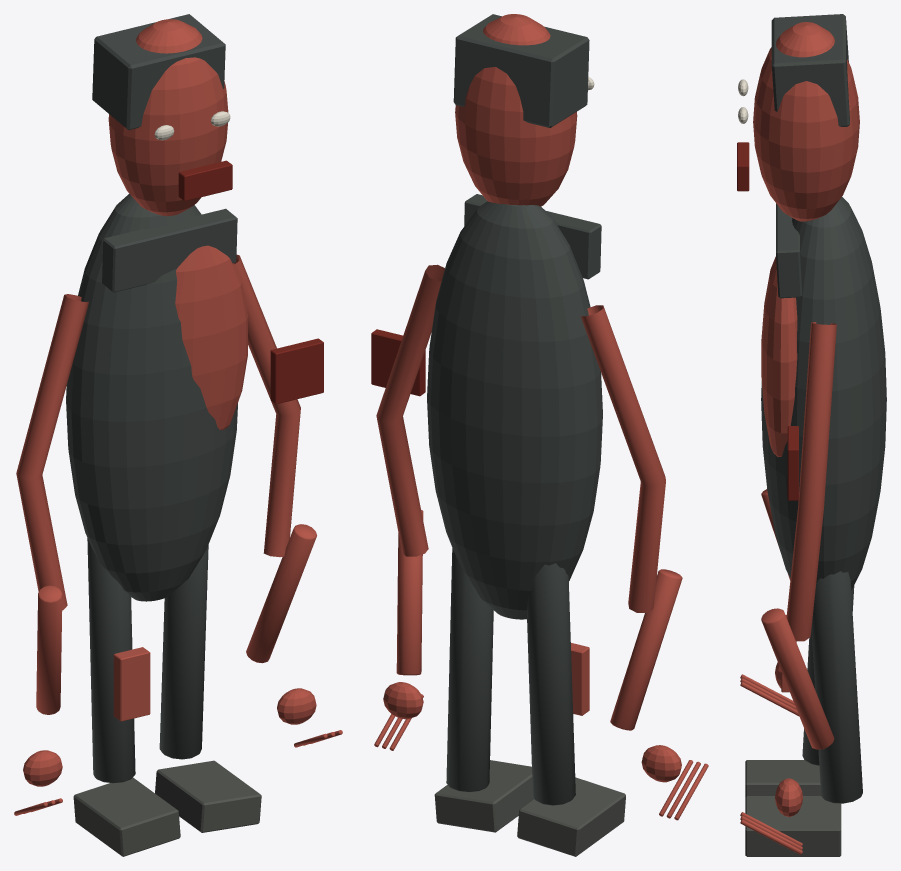
The model's file is dz_enemy_runner_male_A.glb.
3 renders of one model, left to right at view 1: azimuth 30°, elevation 25°; view 2: azimuth 150°, elevation 25°; view 3: azimuth 270°, elevation 25°, orthographic.
Parts seen in each view (by area): view 1: dz_torso_core, dz_head_forward, dz_chest_infected_growth, dz_limb_arm_L, dz_limb_leg_R, dz_limb_leg_L, dz_low_hood_fast, dz_torn_collar_male, dz_limb_arm_R, dz_foot_drag_L, dz_foot_drag_R, dz_limb_forearm_R (+6 smaller); view 2: dz_torso_core, dz_head_forward, dz_limb_leg_L, dz_limb_leg_R, dz_low_hood_fast, dz_limb_arm_L, dz_limb_arm_R, dz_foot_drag_L, dz_foot_drag_R, dz_limb_forearm_L, dz_limb_forearm_R, dz_torn_collar_male (+4 smaller); view 3: dz_torso_core, dz_head_forward, dz_limb_leg_R, dz_limb_arm_R, dz_chest_infected_growth, dz_low_hood_fast, dz_foot_drag_R, dz_limb_forearm_R, dz_foot_drag_L, dz_torn_collar_male, dz_red_sprint_armband, dz_hand_claw_R (+4 smaller).
Part boxes in pixels (x1,y1,x2,y2): dz_torso_core: (66,193,237,601); dz_head_forward: (108,19,228,216); dz_chest_infected_growth: (175,245,247,430); dz_limb_arm_L: (16,294,88,610); dz_limb_leg_R: (159,545,208,759); dz_limb_leg_L: (87,538,135,783); dz_low_hood_fast: (92,14,225,130); dz_torn_collar_male: (102,208,237,292); dz_limb_arm_R: (234,254,300,557); dz_foot_drag_L: (73,777,180,856); dz_foot_drag_R: (155,760,261,832); dz_limb_forearm_R: (246,524,316,663); dz_torso_core: (427,201,602,619); dz_head_forward: (455,14,577,206); dz_limb_leg_L: (526,563,575,805); dz_limb_leg_R: (446,548,493,792); dz_low_hood_fast: (453,14,589,127); dz_limb_arm_L: (580,305,665,613); dz_limb_arm_R: (376,264,444,556); dz_foot_drag_L: (517,777,625,856); dz_foot_drag_R: (434,760,534,832); dz_limb_forearm_L: (610,569,682,730); dz_limb_forearm_R: (396,510,423,675); dz_torn_collar_male: (464,194,601,279); dz_torso_core: (761,197,886,590); dz_head_forward: (753,22,859,221); dz_limb_leg_R: (811,571,862,803); dz_limb_arm_R: (786,322,836,641); dz_chest_infected_growth: (761,256,797,456); dz_low_hood_fast: (771,14,849,126); dz_foot_drag_R: (745,796,841,856); dz_limb_forearm_R: (761,608,834,749); dz_foot_drag_L: (745,760,821,797); dz_torn_collar_male: (776,203,802,298); dz_red_sprint_armband: (787,426,798,500); dz_hand_claw_R: (775,778,803,816).
Size of what is drawn, in the model's own units: 0.8091 by 2.03 by 0.343.
